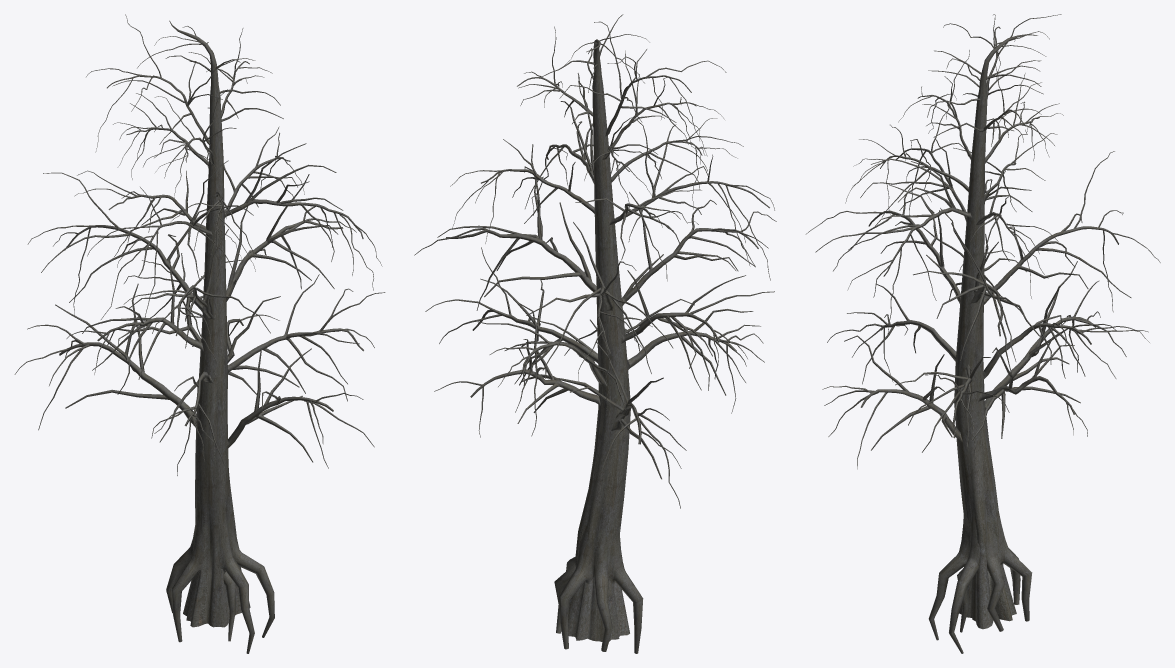
The model's file is TREE TRUNK.fbx.
3 renders of one model, left to right at view 1: azimuth 30°, elevation 25°; view 2: azimuth 150°, elevation 25°; view 3: azimuth 270°, elevation 25°, orthographic. The views are drawn at different scales.
Parts seen in each view (by area): view 1: Linden_LOD0_M_Bark.005_0; view 2: Linden_LOD0_M_Bark.005_0; view 3: Linden_LOD0_M_Bark.005_0.
Part boxes in pixels (box(x1,y1,x2,y2)): Linden_LOD0_M_Bark.005_0: box(14, 14, 385, 653); Linden_LOD0_M_Bark.005_0: box(414, 14, 776, 653); Linden_LOD0_M_Bark.005_0: box(805, 14, 1160, 653).
Bounding box in the file's own units: 883 × 1713 × 923.
Materials: 1 (1 with a texture image).
